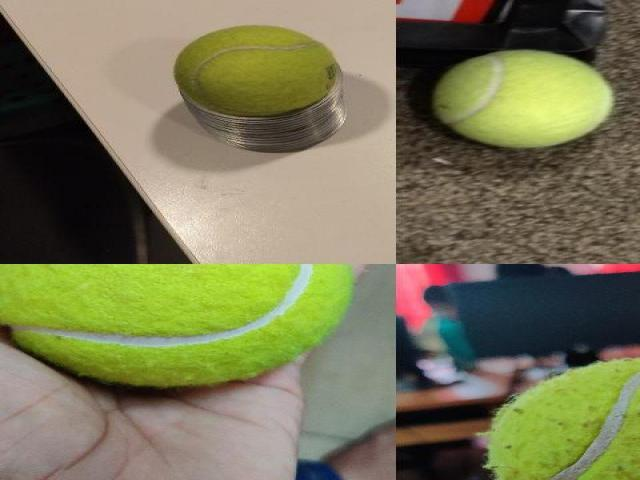tennis-ball: (0, 264, 352, 389), (484, 357, 639, 479), (428, 48, 615, 148), (172, 24, 338, 117)
